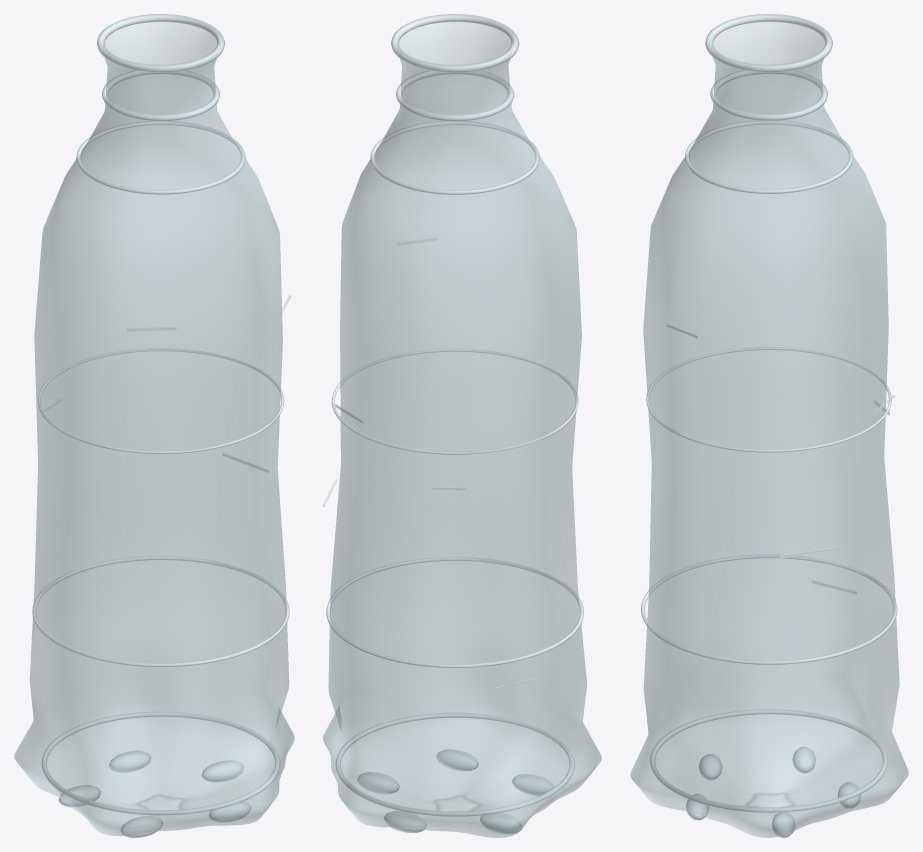
File: pet_bottle.glb
3 views of the same model, side by side, from view 1: azimuth 30°, elevation 25°; view 2: azimuth 150°, elevation 25°; view 3: azimuth 270°, elevation 25° (orthographic).
Parts seen in each view (by area): view 1: PET_Bottle_Body, PET_Base_Foot_Ridge, PET_Lower_Grip_Ring, PET_Mouth_Rim, PET_Shoulder_Read_Ring, PET_Midbody_Subtle_Ring, PET_Neck_Ring, PET_Base_Foot_4, PET_Base_Foot_2, PET_Base_Foot_1, PET_Base_Foot_5, PET_Base_Foot_3; view 2: PET_Bottle_Body, PET_Base_Foot_Ridge, PET_Lower_Grip_Ring, PET_Mouth_Rim, PET_Shoulder_Read_Ring, PET_Midbody_Subtle_Ring, PET_Neck_Ring, PET_Base_Foot_1, PET_Base_Foot_2, PET_Base_Foot_5, PET_Base_Foot_3, PET_Base_Foot_4; view 3: PET_Bottle_Body, PET_Base_Foot_Ridge, PET_Lower_Grip_Ring, PET_Mouth_Rim, PET_Midbody_Subtle_Ring, PET_Shoulder_Read_Ring, PET_Neck_Ring.
Part boxes in pixels (x1,y1,x2,y2): PET_Bottle_Body: (14, 22, 294, 836); PET_Base_Foot_Ridge: (41, 711, 280, 815); PET_Lower_Grip_Ring: (32, 556, 289, 667); PET_Mouth_Rim: (97, 14, 224, 72); PET_Shoulder_Read_Ring: (76, 121, 245, 194); PET_Midbody_Subtle_Ring: (38, 348, 284, 453); PET_Neck_Ring: (102, 70, 219, 121); PET_Base_Foot_4: (120, 816, 162, 837); PET_Base_Foot_2: (109, 750, 151, 772); PET_Base_Foot_1: (201, 760, 243, 781); PET_Base_Foot_5: (209, 801, 251, 822); PET_Base_Foot_3: (58, 785, 100, 807); PET_Bottle_Body: (323, 22, 601, 837); PET_Base_Foot_Ridge: (335, 712, 574, 816); PET_Lower_Grip_Ring: (326, 557, 583, 668); PET_Mouth_Rim: (391, 14, 519, 72); PET_Shoulder_Read_Ring: (370, 121, 539, 194); PET_Midbody_Subtle_Ring: (331, 348, 578, 454); PET_Neck_Ring: (396, 70, 514, 121); PET_Base_Foot_1: (357, 772, 399, 793); PET_Base_Foot_2: (384, 811, 426, 832); PET_Base_Foot_5: (436, 749, 478, 770); PET_Base_Foot_3: (480, 813, 521, 833); PET_Base_Foot_4: (512, 774, 553, 795); PET_Bottle_Body: (630, 22, 908, 837); PET_Base_Foot_Ridge: (650, 709, 887, 812); PET_Lower_Grip_Ring: (641, 554, 897, 664); PET_Mouth_Rim: (705, 14, 832, 72); PET_Midbody_Subtle_Ring: (646, 347, 891, 452); PET_Shoulder_Read_Ring: (685, 120, 853, 193); PET_Neck_Ring: (710, 70, 827, 120).
Size of the model in its own units: 0.8367 by 2.54 by 0.8425.
